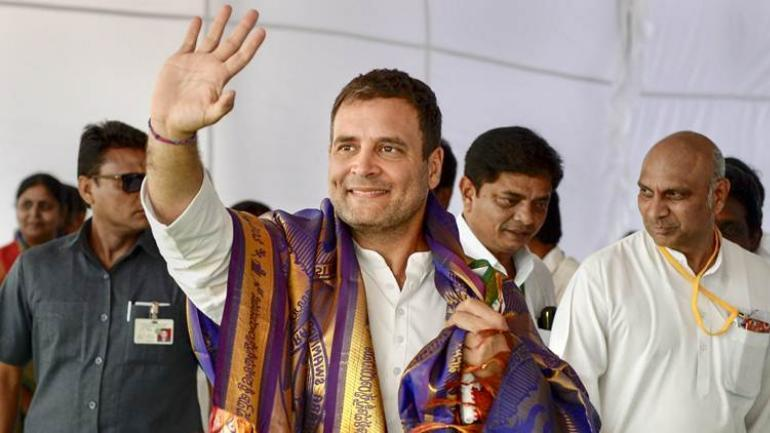open_hand: (133, 7, 289, 151)
